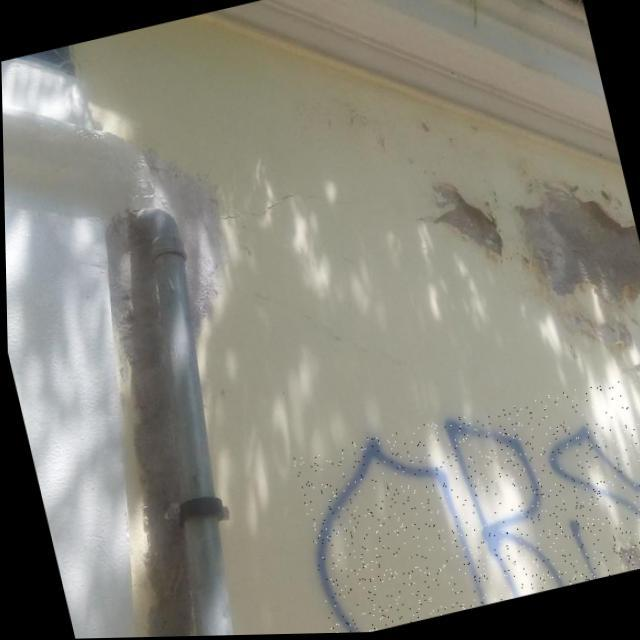-: (287, 373, 640, 635)
